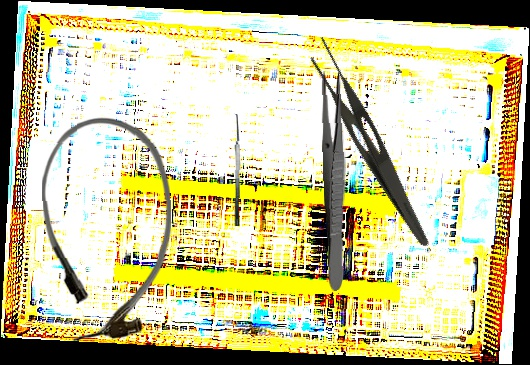Cannula: (41, 114, 173, 344)
Dressing Forceps: (293, 33, 453, 250), (319, 70, 351, 291)
Spatula Surgical: (224, 113, 244, 226)
